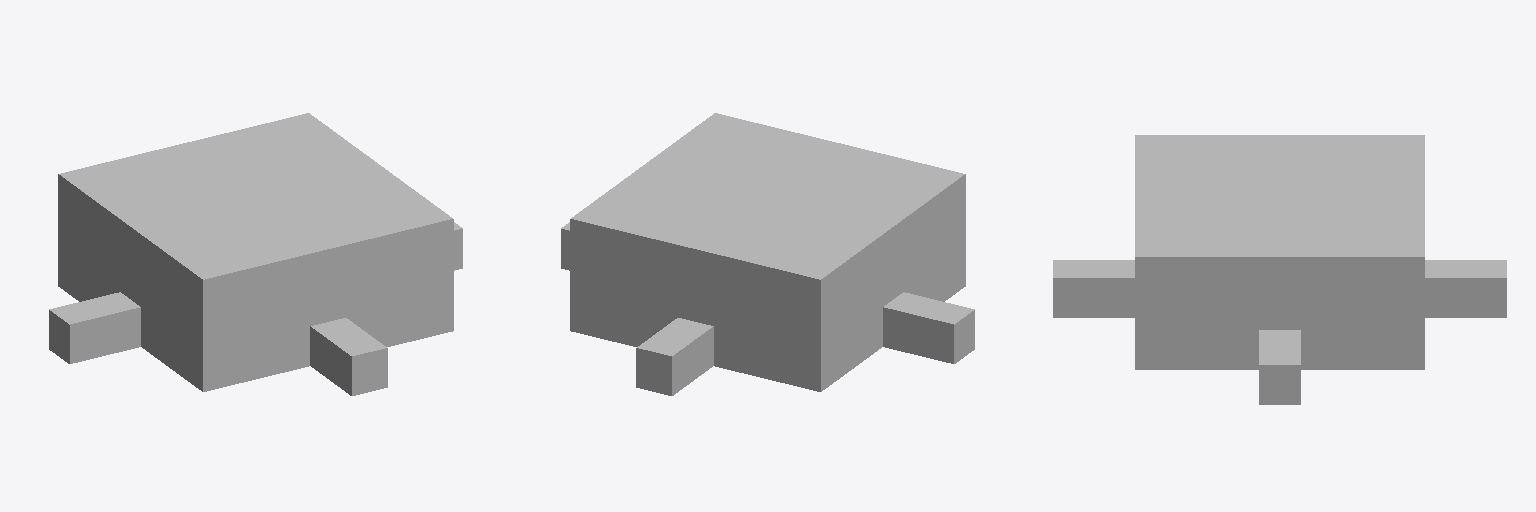
3 renders of one model, left to right at view 1: azimuth 30°, elevation 25°; view 2: azimuth 150°, elevation 25°; view 3: azimuth 270°, elevation 25°, orthographic.
Visible parts, largest first — view 1: Plane; view 2: Plane; view 3: Plane.
Boxes of the visible parts, box(x1,y1,x2,y2) form: Plane: box(49, 113, 462, 395); Plane: box(561, 113, 974, 395); Plane: box(1053, 135, 1506, 404).
Bounding box in the file's own units: 0.11 × 0.0319 × 0.11.